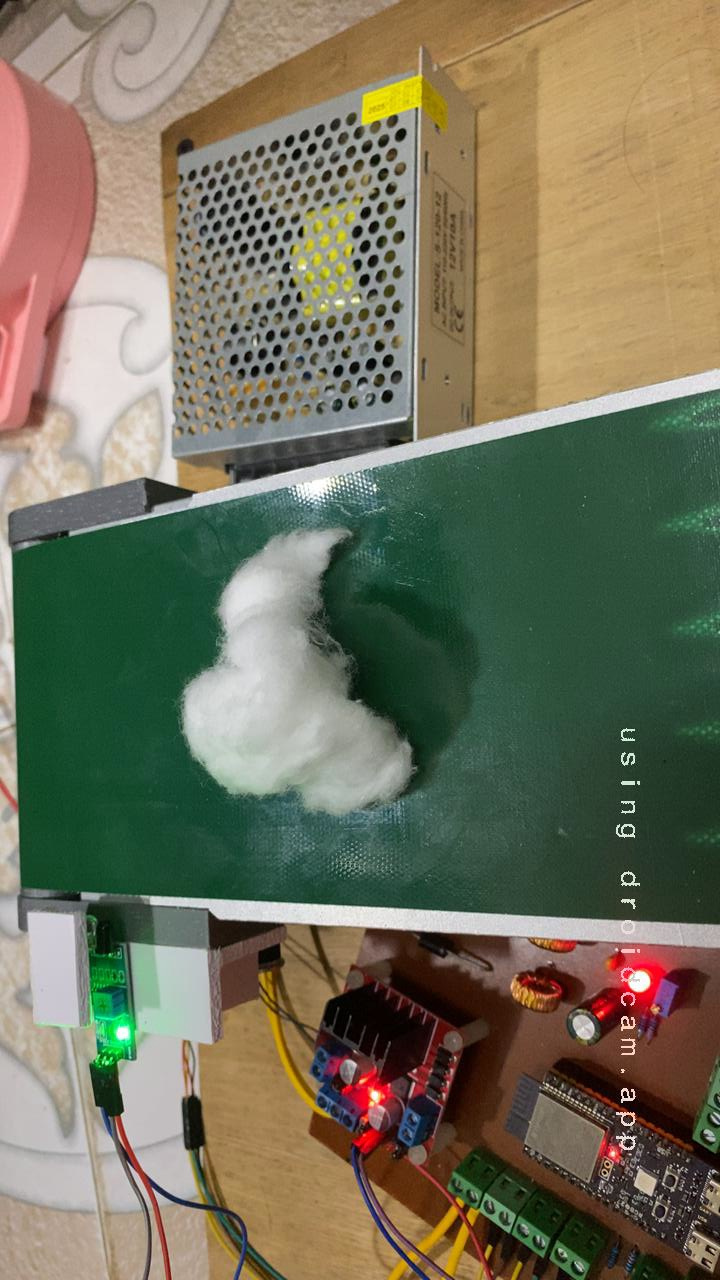cotton: (143, 512, 442, 841)
